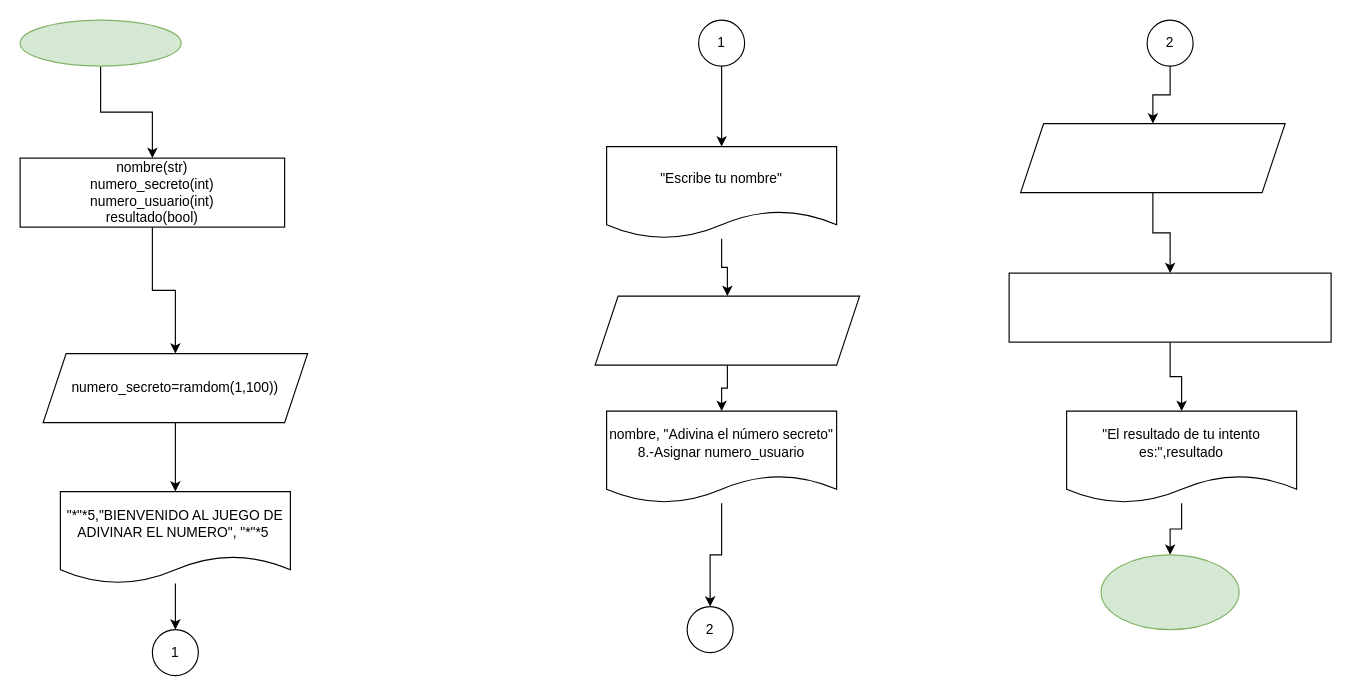
This 1351x696 diagram has some shape labels left out. The box of each missing label's shape, as (x1, y1, x2, y2) in pixels:
Fin: (1100, 554, 1239, 630)
INICIO: (19, 19, 181, 66)
nombre: (594, 295, 860, 365)
nombre_usuario: (1019, 122, 1285, 193)
resultado=numero_secreto==numero_usuario: (1008, 272, 1331, 342)
